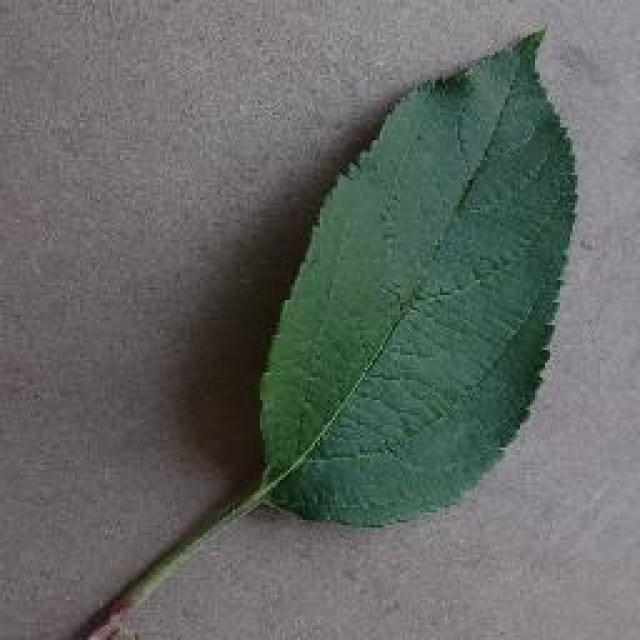Apple___healthy: (255, 20, 581, 531)
